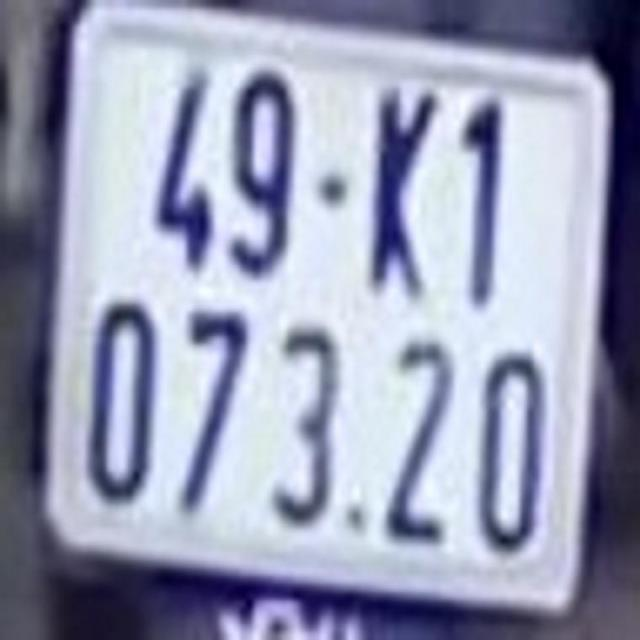0: (472, 340, 544, 556), (83, 293, 157, 502)
1: (453, 79, 508, 308)
2: (375, 332, 456, 550)
3: (273, 318, 337, 526)
4: (141, 60, 218, 268)
7: (173, 304, 250, 513)
9: (224, 64, 296, 281)
K: (361, 75, 442, 298)
